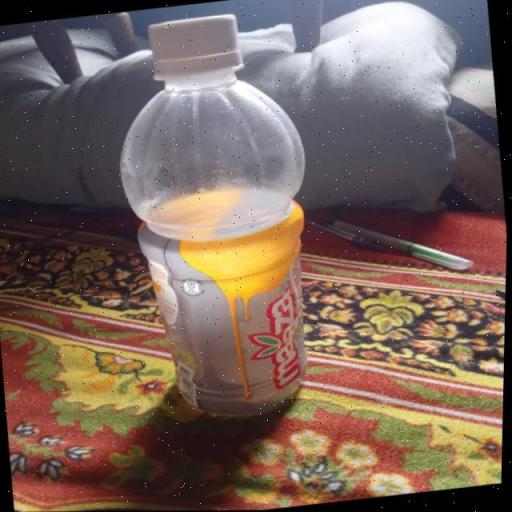plastic: (120, 15, 308, 423)
